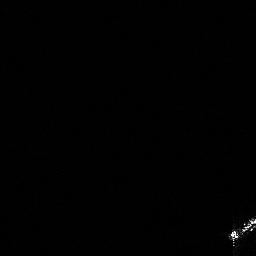ship: (224, 212, 256, 248)
